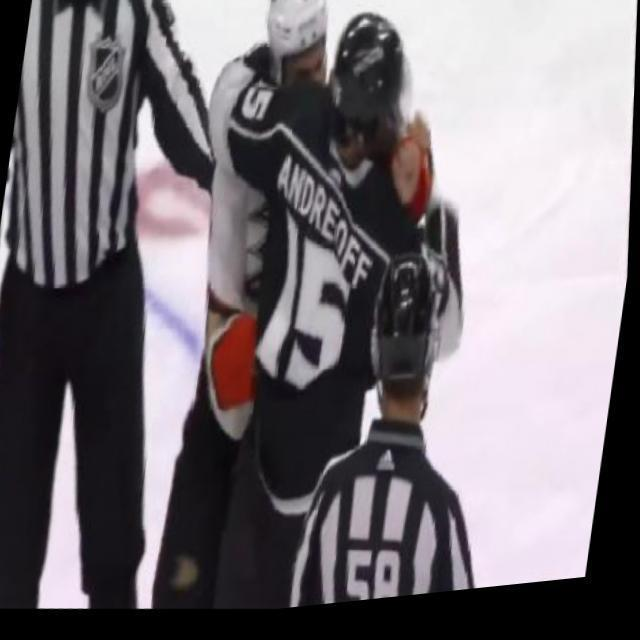fight: (129, 0, 521, 519)
